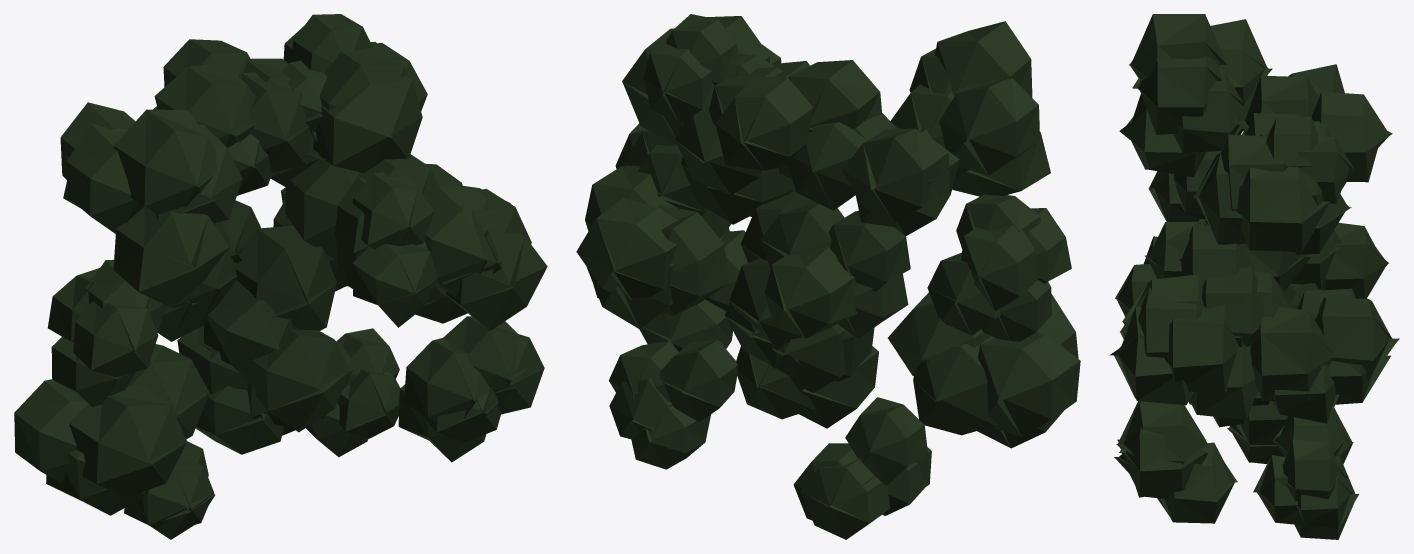
The model's file is tree_m0_far.obj.
3 renders of one model, left to right at view 1: azimuth 30°, elevation 25°; view 2: azimuth 150°, elevation 25°; view 3: azimuth 270°, elevation 25°, orthographic. The views are drawn at different scales.
Size of the model in its own units: 1.61 by 1.54 by 0.9366.
1 material, 1 textured.
